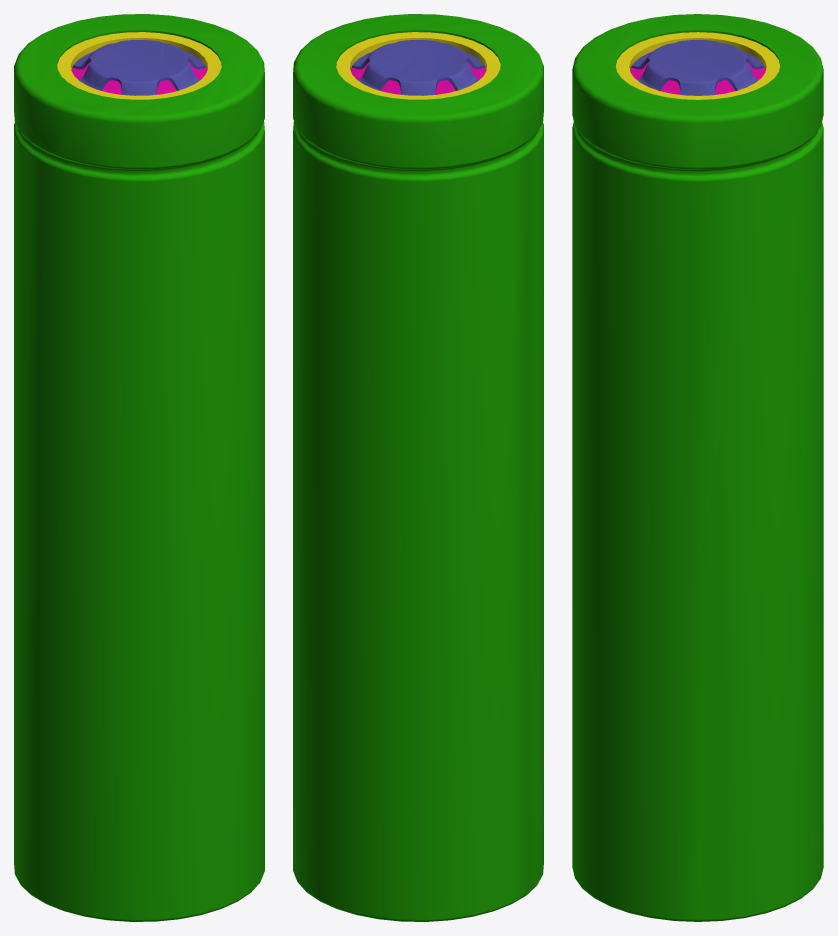
The model's file is battery.fbx.
The picture shows the model from 3 angles, left to right: view 1: azimuth 30°, elevation 25°; view 2: azimuth 150°, elevation 25°; view 3: azimuth 270°, elevation 25°; orthographic projection.
Visible parts, largest first — view 1: Battery; view 2: Battery; view 3: Battery.
Boxes of the visible parts, x1,y1,x2,y2 form: Battery: [14, 14, 264, 921]; Battery: [293, 14, 543, 921]; Battery: [572, 14, 823, 921].
Size of the model in its own units: 1.83 by 6.5 by 1.83.
